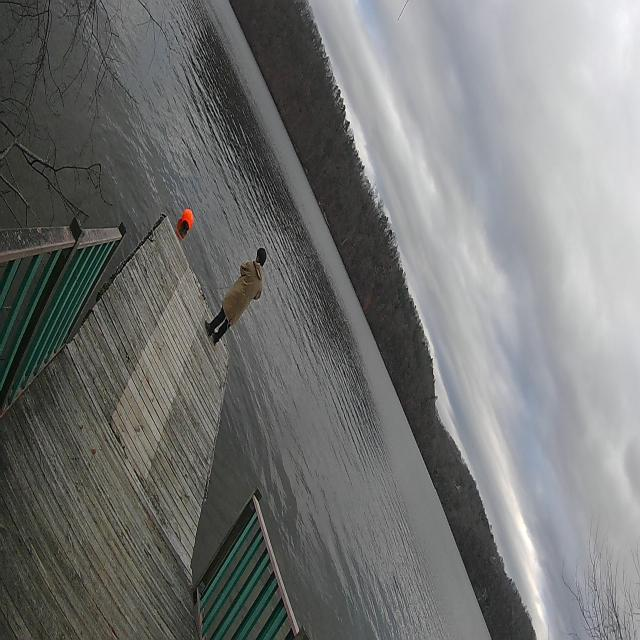Buoy: (178, 203, 196, 237)
